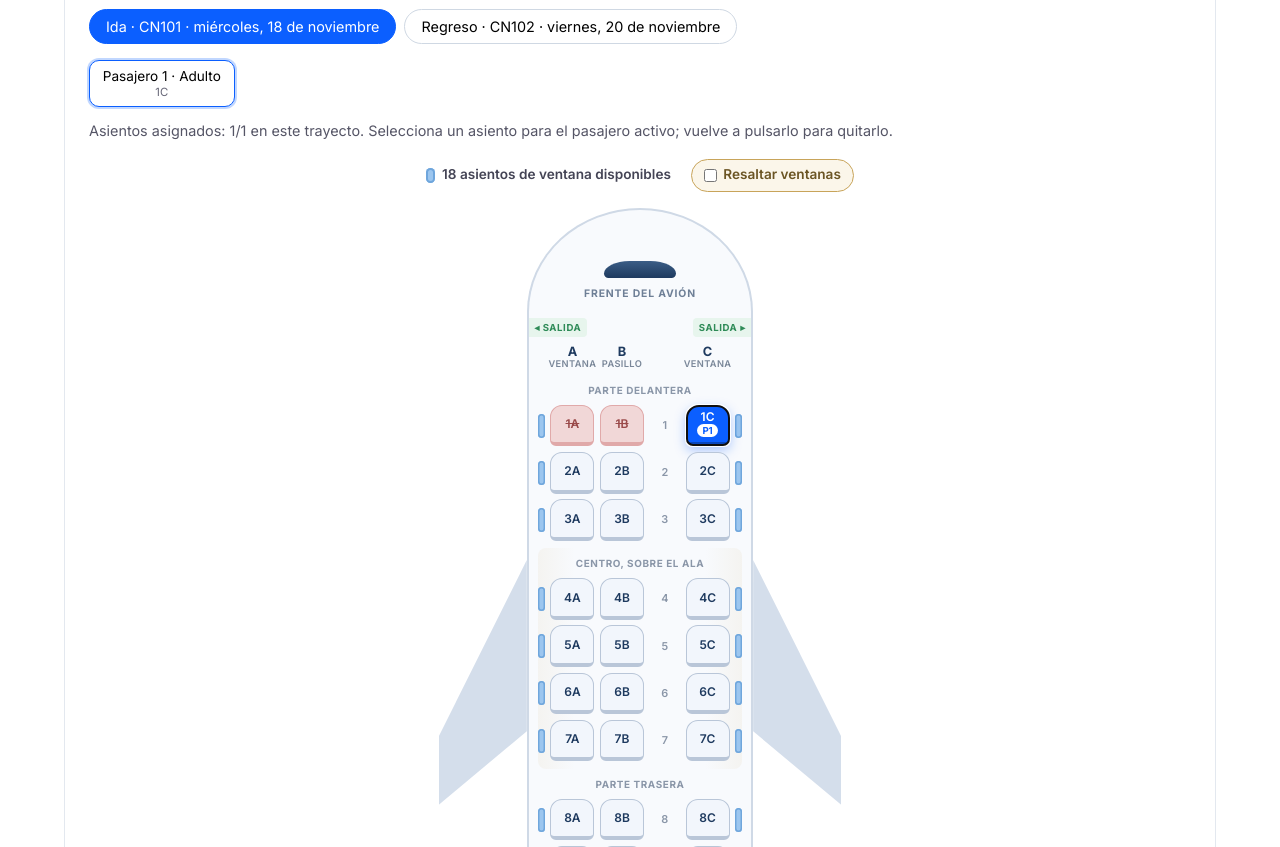
Test: BookingPage — CU-04 alternate flow (Paso 3.3): miles redemption › shows the corporate balance, validates the amount and previews the discount
Earlier steps of the test are not shown.
(page scrolled)
Click the tab "Regreso" at (571, 26), box top-left (404, 8), bottom-right (737, 44)
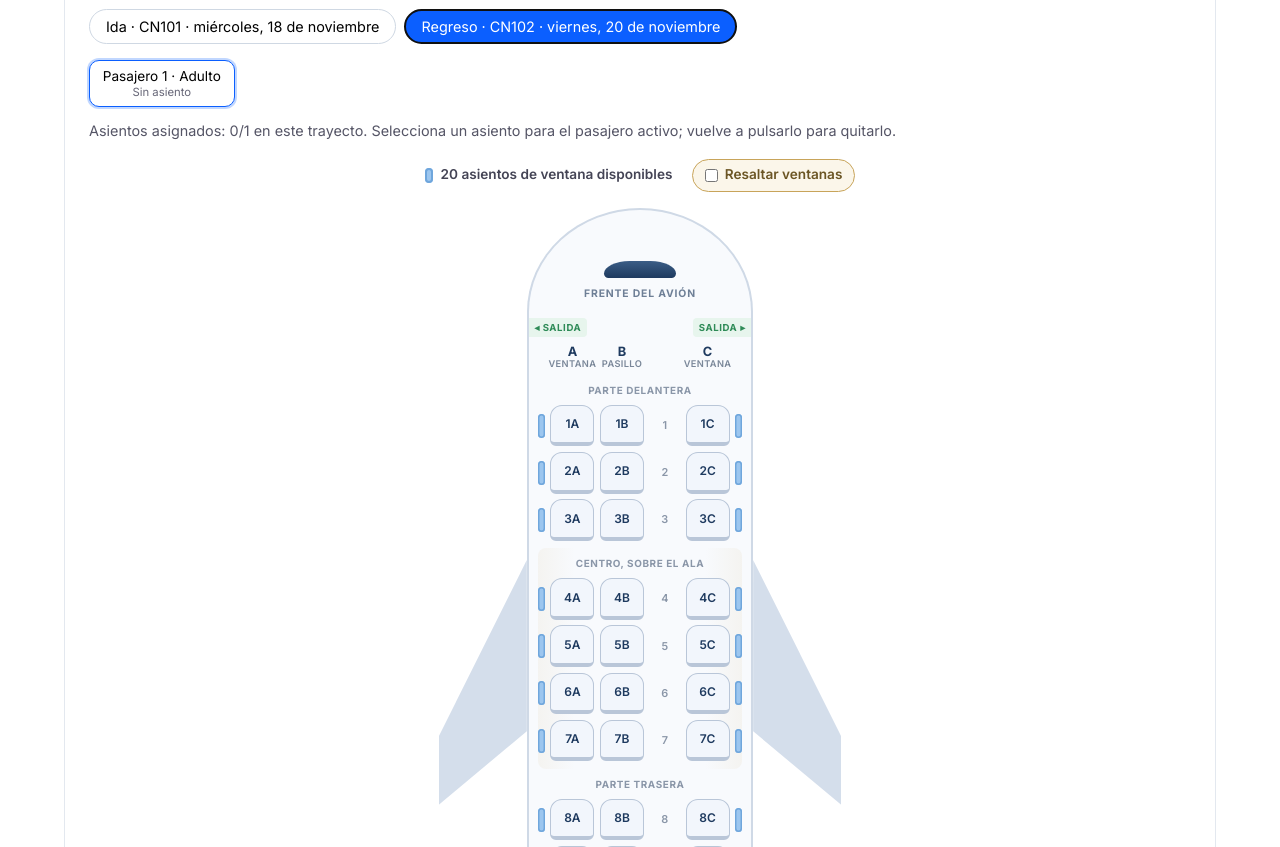
Click the button named "disponible" at (572, 426), box top-left (550, 405), bottom-right (594, 446)
(page scrolled)
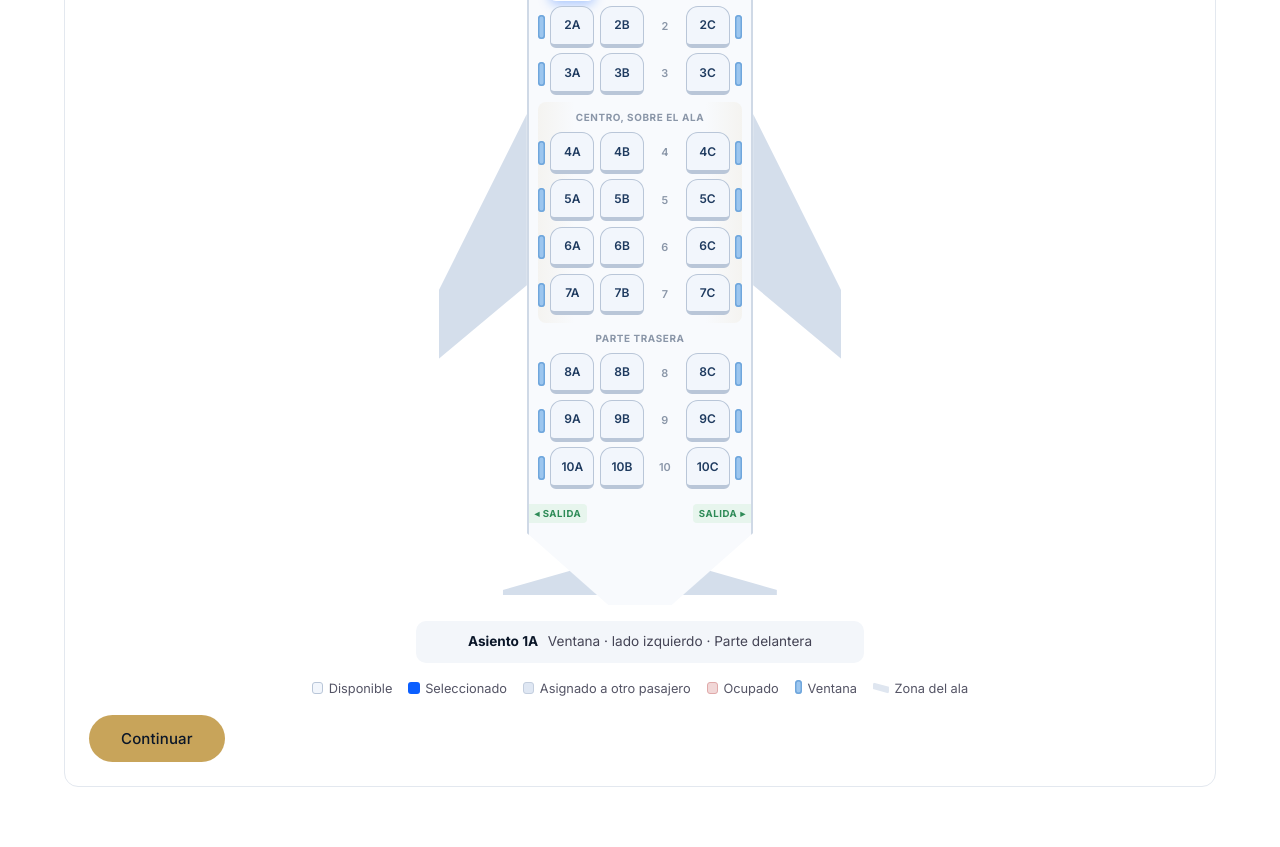
Click the button "Continuar" at (157, 738), box top-left (89, 715), bottom-right (225, 762)
(page scrolled)
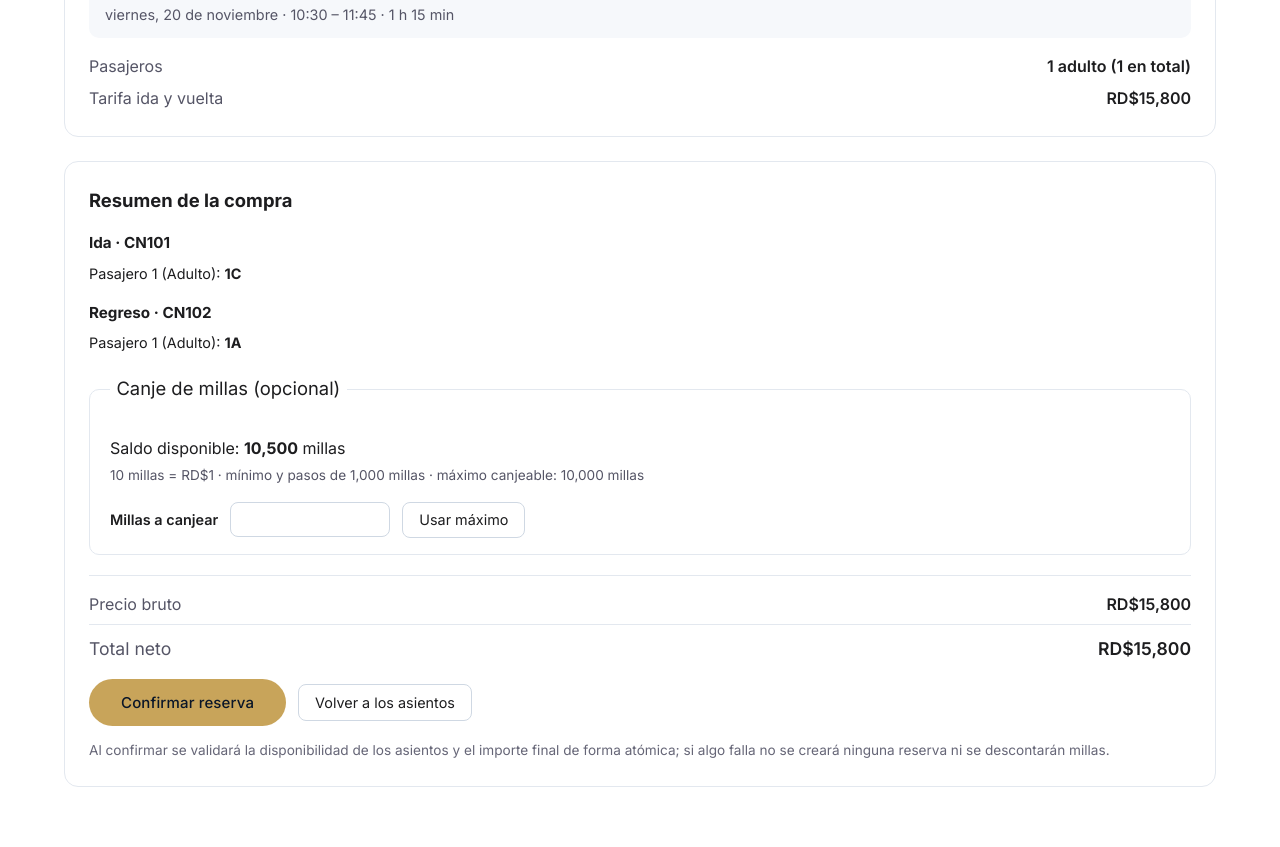
Check: the text "Saldo disponible: 10,500 millas" is shown, box top-left (110, 438), bottom-right (346, 458)
Type "500" into the number field labelled "Millas a canjear" at (310, 520), box top-left (230, 502), bottom-right (390, 537)
(page scrolled)
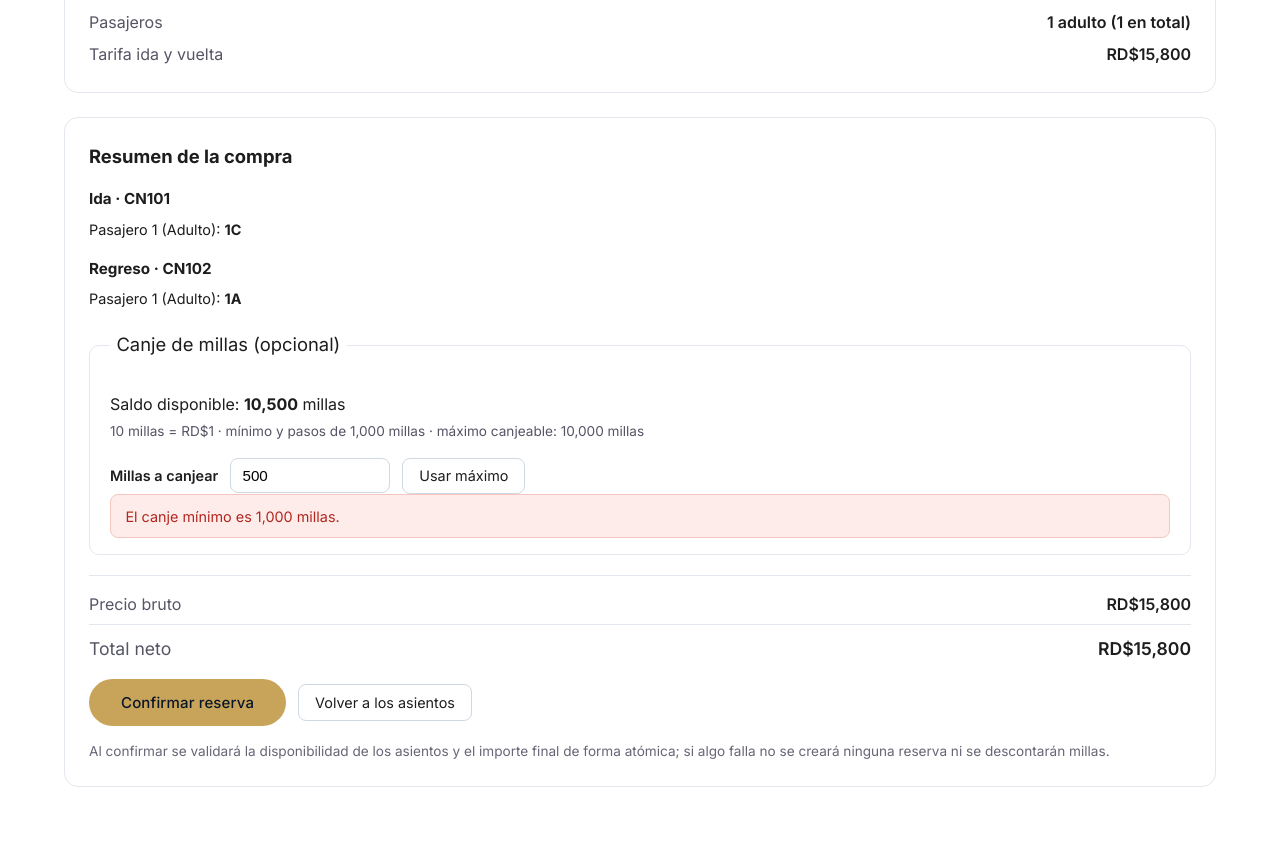
Check: the message reads "El canje mínimo es 1,000 millas.", box top-left (125, 508), bottom-right (340, 525)
Replace the text in the number field labelled "Millas a canjear" with "2500" at (310, 476), box top-left (230, 458), bottom-right (390, 493)
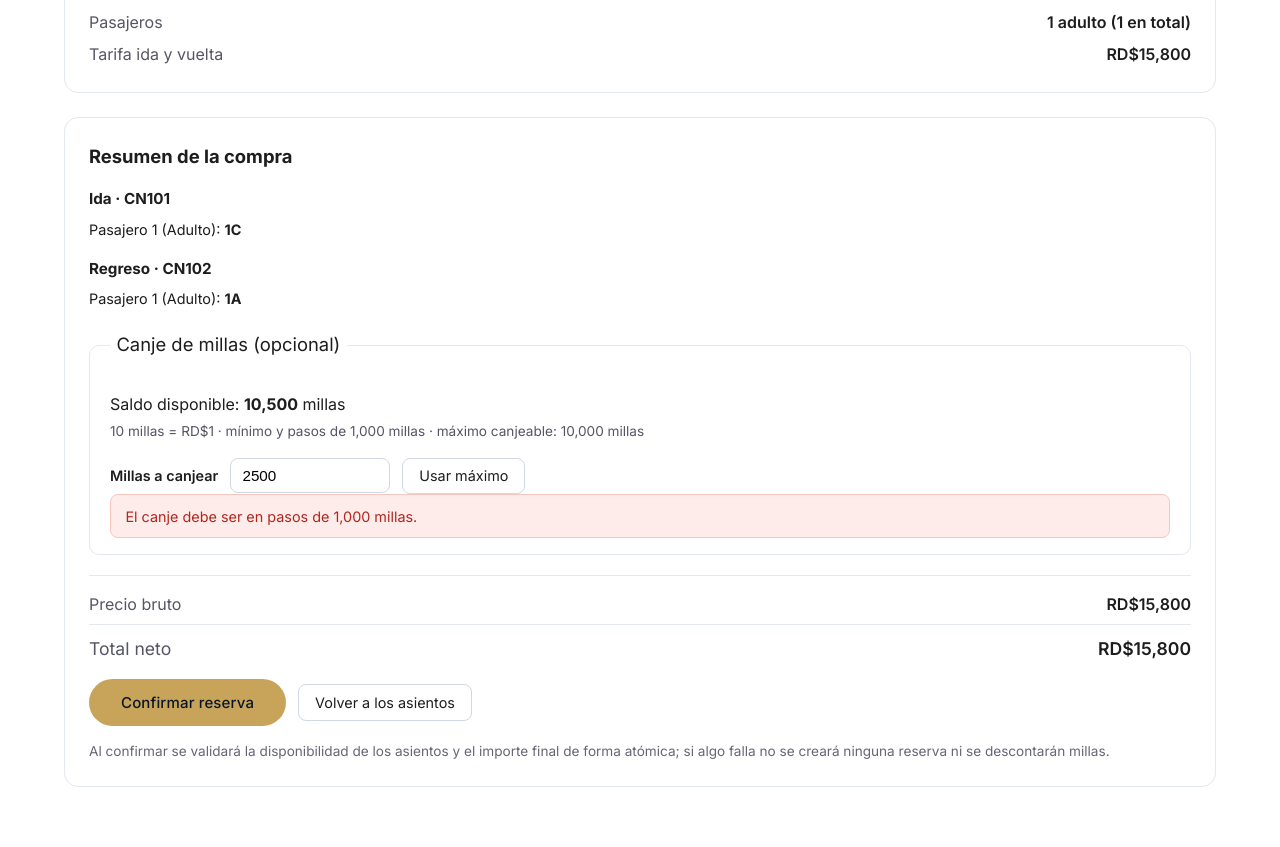
Check: the message reads "El canje debe ser en pasos de 1,000 millas.", box top-left (125, 508), bottom-right (417, 525)
Replace the text in the number field labelled "Millas a canjear" with "2000" at (310, 476), box top-left (230, 458), bottom-right (390, 493)
(page scrolled)
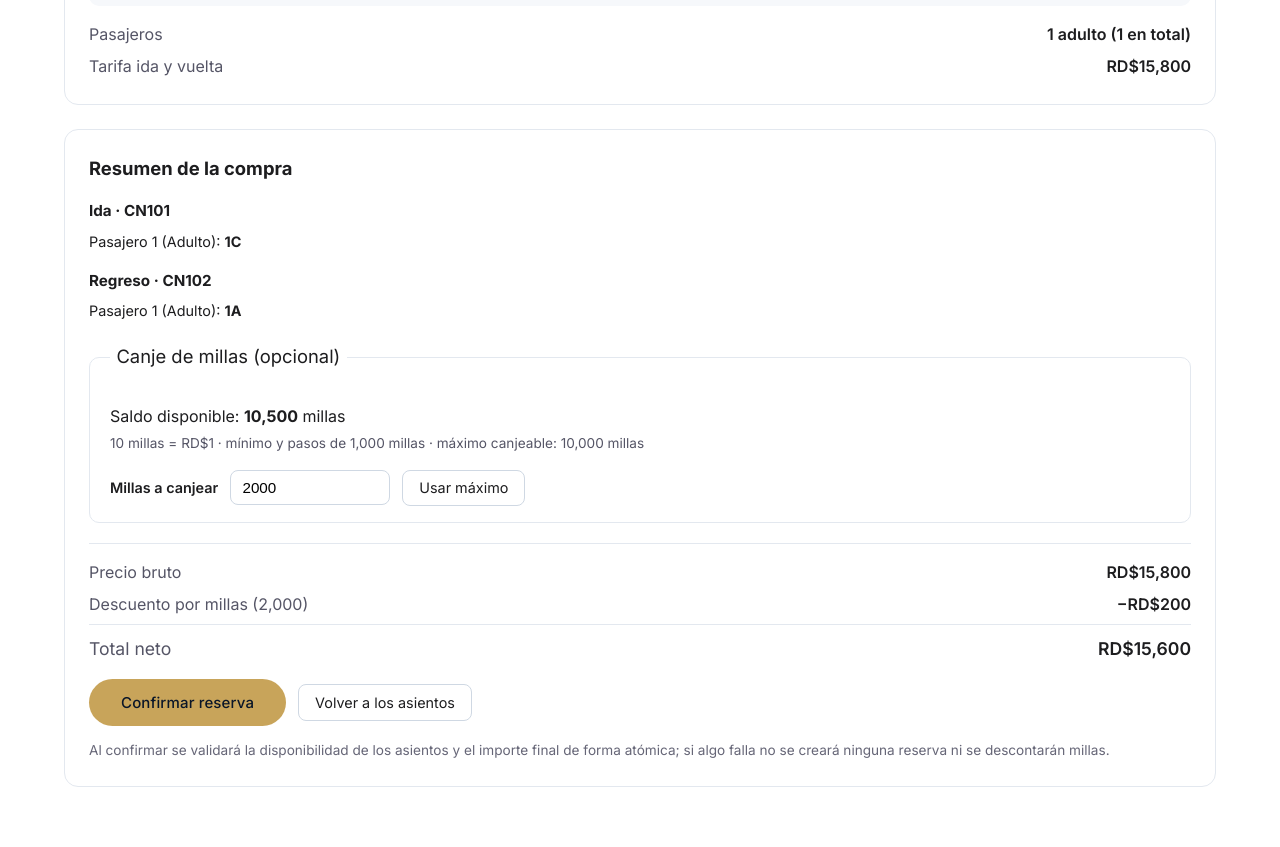
Check: the message "El canje debe ser en pasos de 1,000 millas." is gone
Check: the text "Descuento por millas (2,000)" is shown, box top-left (89, 592), bottom-right (308, 618)
Check: the text "−RD$200" is shown, box top-left (1117, 592), bottom-right (1191, 618)
